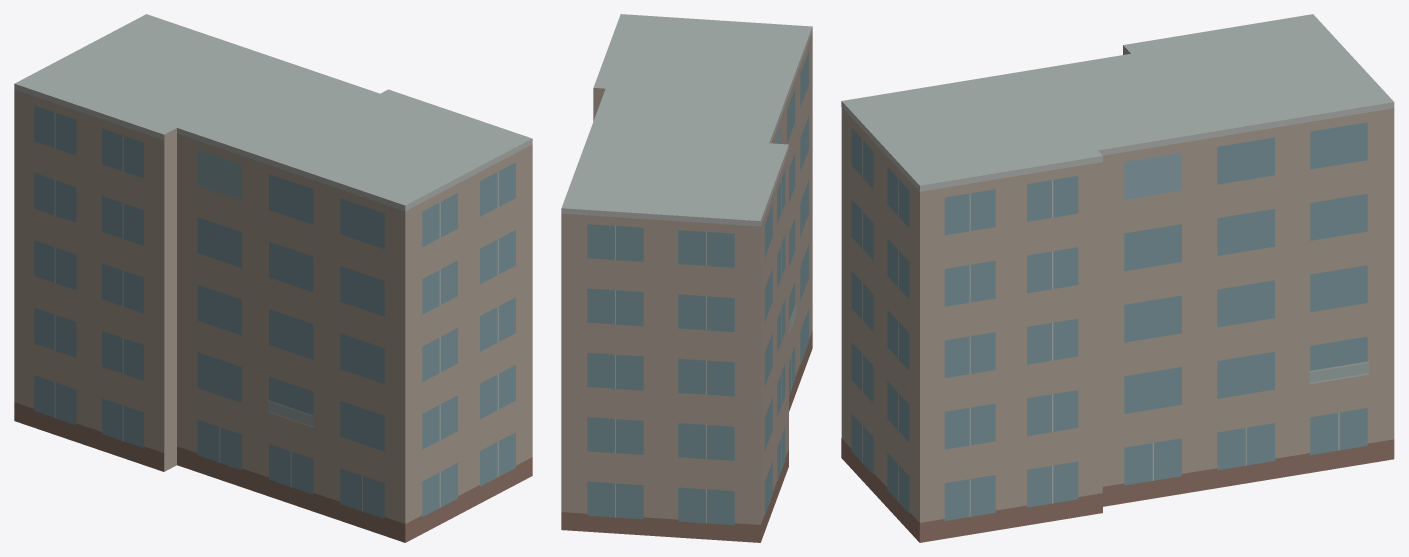
Rendered from survey-upis-32791929.glb.
3 views of the same model, side by side, from view 1: azimuth 30°, elevation 25°; view 2: azimuth 150°, elevation 25°; view 3: azimuth 270°, elevation 25° (orthographic). The views are drawn at different scales.
Visible parts, largest first — view 1: survey-upis-32791929.tmp; view 2: survey-upis-32791929.tmp; view 3: survey-upis-32791929.tmp.
Boxes of the visible parts, box(x1,y1,x2,y2) form: survey-upis-32791929.tmp: box(14, 14, 532, 542); survey-upis-32791929.tmp: box(561, 14, 812, 542); survey-upis-32791929.tmp: box(841, 14, 1394, 542).
Size of the model in its own units: 14.81 by 14.35 by 20.14.
